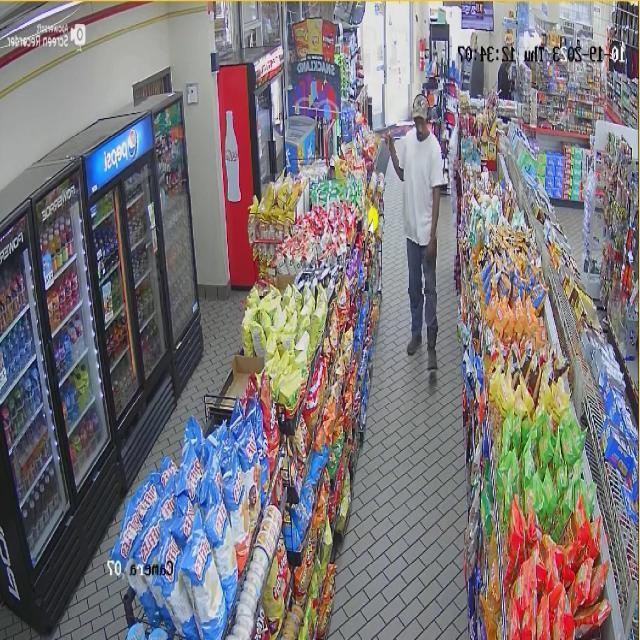Normal: (373, 84, 456, 388)
